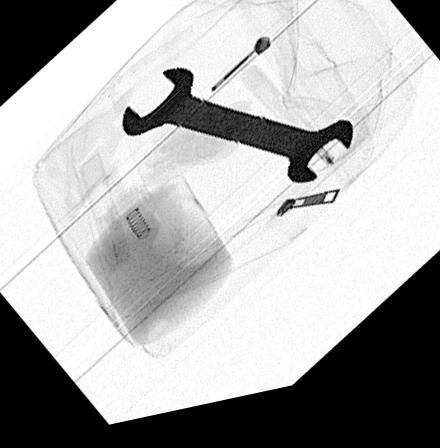Wrench: (121, 74, 354, 199)
